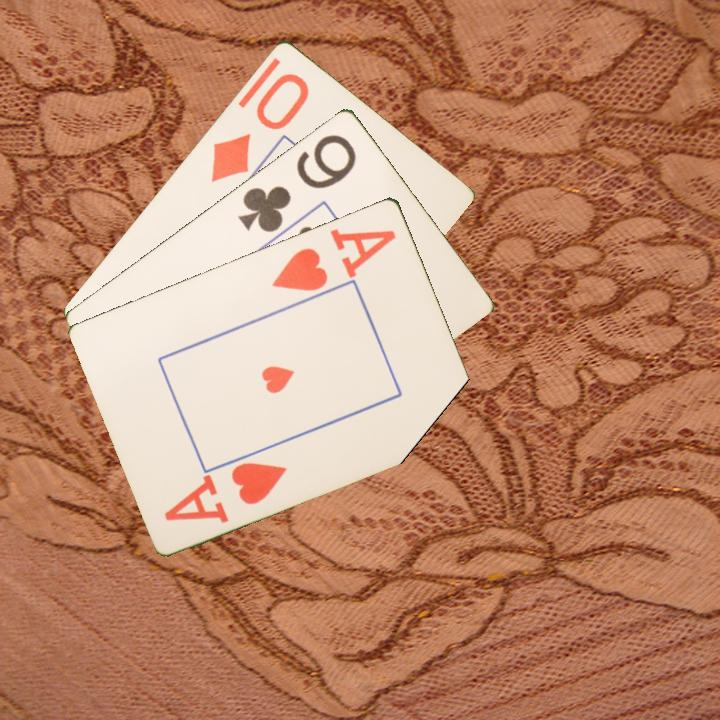10d: (207, 68, 312, 185)
9c: (234, 129, 360, 235)
Ah: (268, 224, 399, 294), (161, 458, 290, 526)
